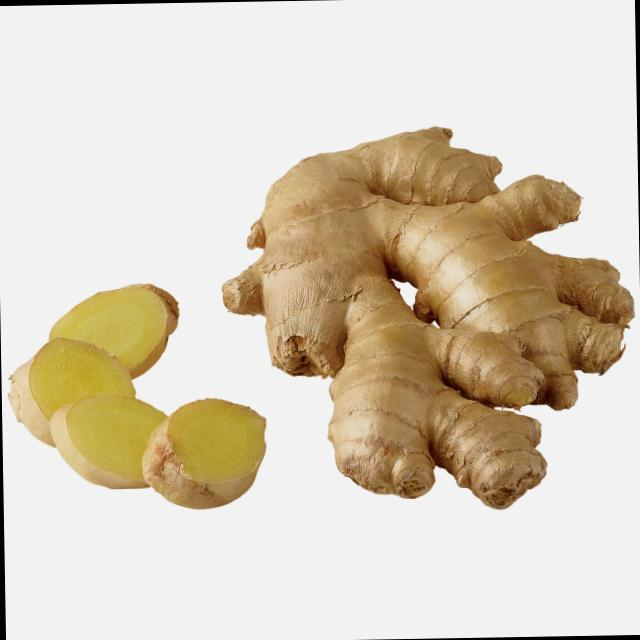ginger-root: (180, 64, 637, 572)
